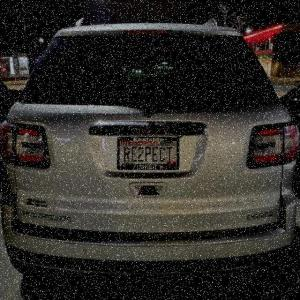Plate: (116, 137, 179, 171)
